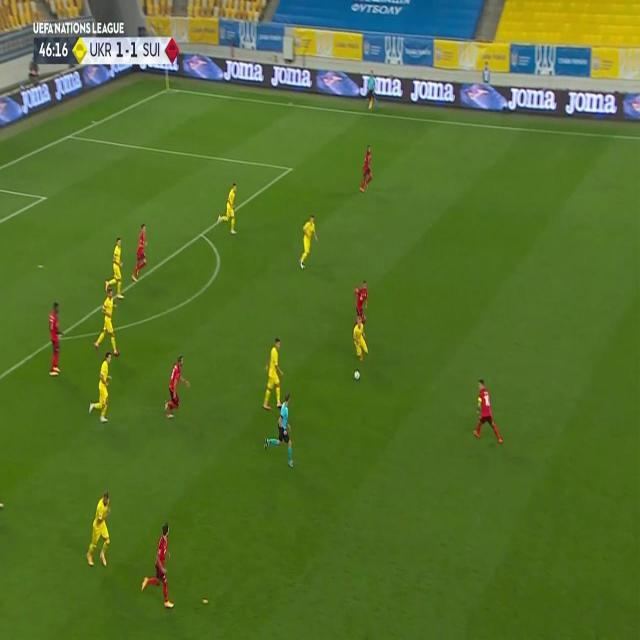ball: (353, 368, 361, 380)
player: (139, 521, 175, 612), (263, 391, 295, 470), (470, 378, 504, 445), (85, 489, 113, 569), (88, 351, 115, 426), (94, 281, 120, 358), (262, 335, 286, 412), (164, 354, 191, 415), (46, 300, 65, 376), (104, 236, 125, 302), (297, 214, 319, 270), (218, 180, 240, 234), (131, 221, 149, 280), (351, 313, 369, 363), (358, 145, 374, 194), (354, 279, 370, 323), (364, 73, 376, 111)
